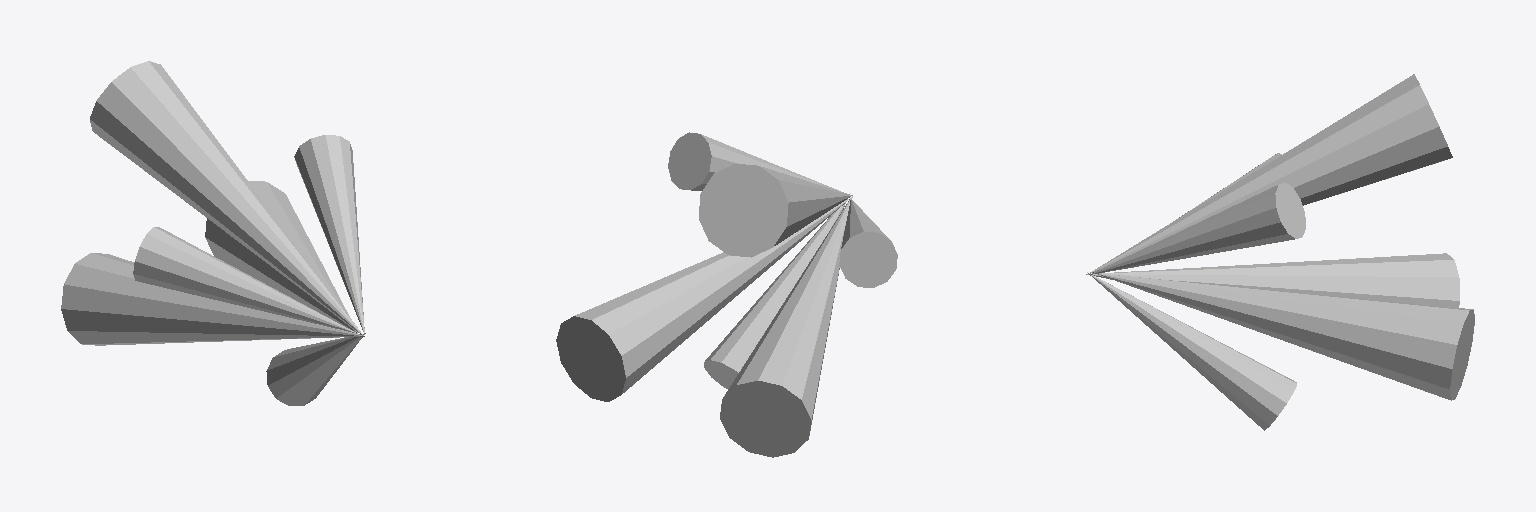
File: Colorfull Shotgun - Flash.obj
The picture shows the model from 3 angles: view 1: azimuth 30°, elevation 25°; view 2: azimuth 150°, elevation 25°; view 3: azimuth 270°, elevation 25°; orthographic projection.
Visible parts, largest first — view 1: group[number redacted], group[number redacted], group[number redacted], group[number redacted], group[number redacted], group[number redacted]; view 2: group[number redacted], group[number redacted], group[number redacted], group[number redacted], group[number redacted], group[number redacted]; view 3: group[number redacted], group[number redacted], group[number redacted], group[number redacted], group[number redacted].
Part boxes in pixels (x1,y1,x2,y2): group[number redacted]: (90, 61, 363, 335); group[number redacted]: (61, 253, 364, 345); group[number redacted]: (133, 227, 357, 333); group[number redacted]: (294, 135, 364, 334); group[number redacted]: (205, 181, 357, 332); group[number redacted]: (266, 333, 365, 405); group[number redacted]: (556, 198, 850, 401); group[number redacted]: (720, 196, 852, 457); group[number redacted]: (699, 163, 852, 257); group[number redacted]: (704, 193, 850, 388); group[number redacted]: (839, 199, 897, 287); group[number redacted]: (668, 132, 838, 190); group[number redacted]: (1098, 274, 1474, 400); group[number redacted]: (1090, 74, 1452, 273); group[number redacted]: (1086, 253, 1459, 307); group[number redacted]: (1087, 272, 1296, 430); group[number redacted]: (1090, 182, 1305, 274).
Bounding box in the file's own units: 0.0607 × 0.071 × 0.0816.